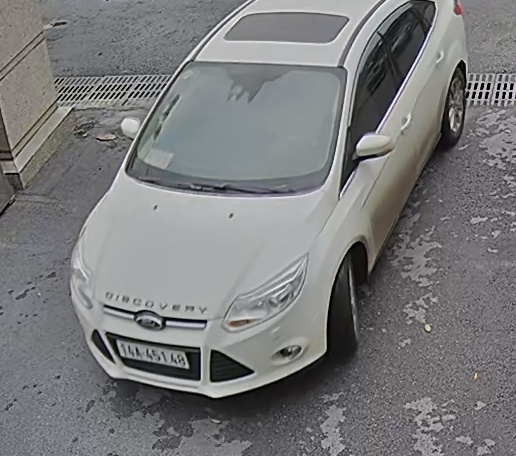vehicle plate: (117, 336, 199, 373)
